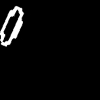chain: (0, 6, 23, 45)
